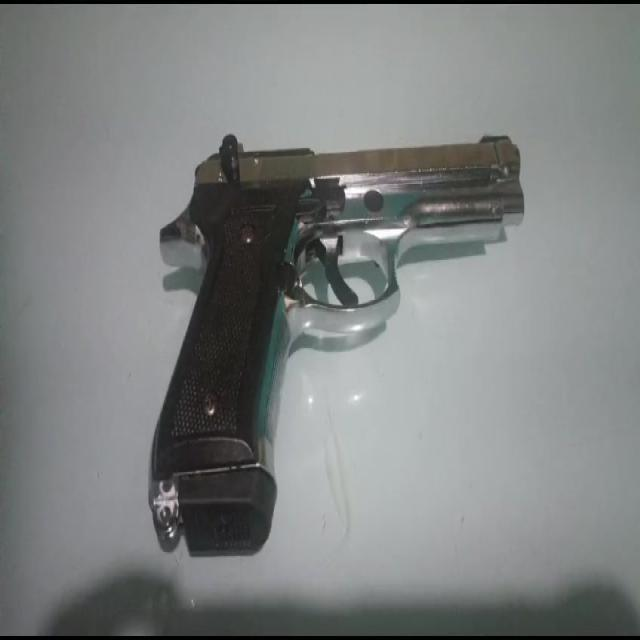weapon: (148, 130, 524, 558)
